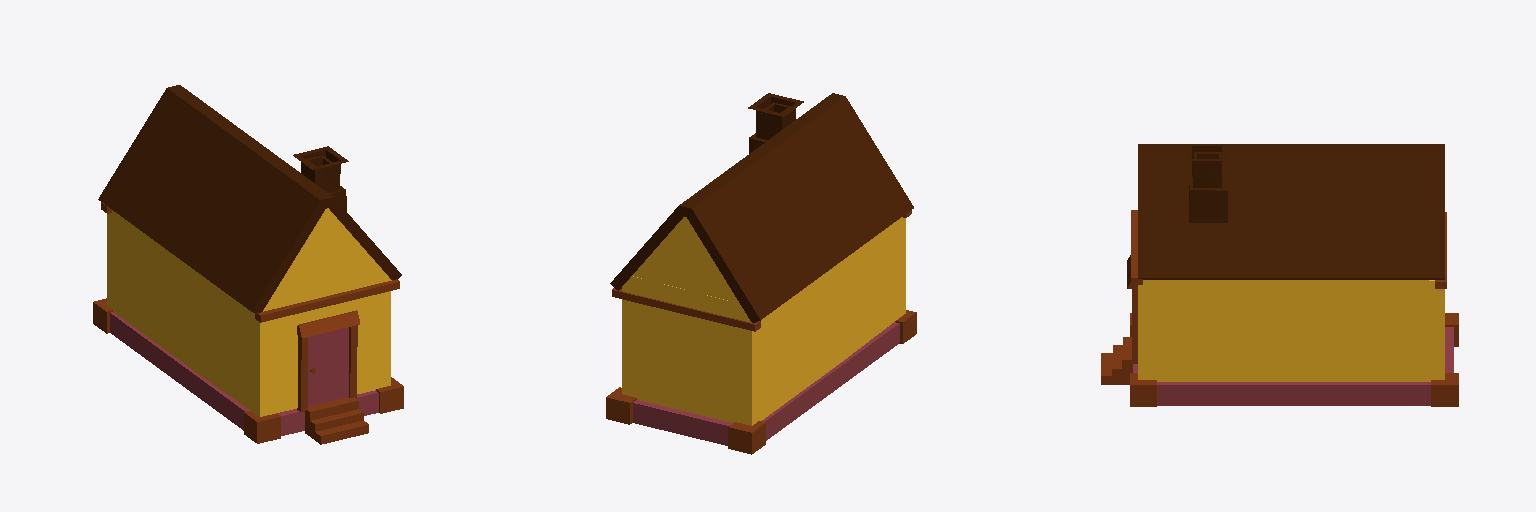
The picture shows the model from 3 angles: view 1: azimuth 30°, elevation 25°; view 2: azimuth 150°, elevation 25°; view 3: azimuth 270°, elevation 25°; orthographic projection.
Parts seen in each view (by area): view 1: Cube.006, Cube, Cube.007, Cube.004, Cube.001, Cube.014, Cube.009, Cube.015, Cube.011, Cube.005, Cube.013, Cube.002 (+3 smaller); view 2: Cube, Cube.006, Cube.004, Cube.007, Cube.014, Cube.008, Cube.016, Cube.017; view 3: Cube.006, Cube, Cube.004, Cube.014, Cube.017, Cube.010, Cube.009.
Boxes of the visible parts, <box> form: Cube.006: <box>98,85,401,313</box>; Cube: <box>107,210,390,416</box>; Cube.007: <box>263,208,391,311</box>; Cube.004: <box>110,312,378,435</box>; Cube.001: <box>308,327,348,406</box>; Cube.014: <box>293,146,348,211</box>; Cube.009: <box>255,279,399,322</box>; Cube.015: <box>244,410,280,443</box>; Cube.011: <box>297,310,359,337</box>; Cube.005: <box>305,420,368,444</box>; Cube.013: <box>297,336,307,411</box>; Cube.002: <box>305,397,358,420</box>; Cube: <box>622,217,905,425</box>; Cube.006: <box>610,93,913,322</box>; Cube.004: <box>633,322,899,445</box>; Cube.007: <box>632,217,739,303</box>; Cube.014: <box>748,93,803,153</box>; Cube.008: <box>612,288,760,331</box>; Cube.016: <box>728,421,765,454</box>; Cube.017: <box>606,387,636,424</box>; Cube.006: <box>1138,144,1444,279</box>; Cube: <box>1138,280,1444,381</box>; Cube.004: <box>1133,327,1453,405</box>; Cube.014: <box>1186,144,1227,222</box>; Cube.017: <box>1431,373,1458,406</box>; Cube.010: <box>1130,373,1156,406</box>; Cube.009: <box>1131,210,1142,284</box>.
Size of the model in its own units: 6.07 by 9.03 by 12.48.
Materials: 4 (4 with a texture image).